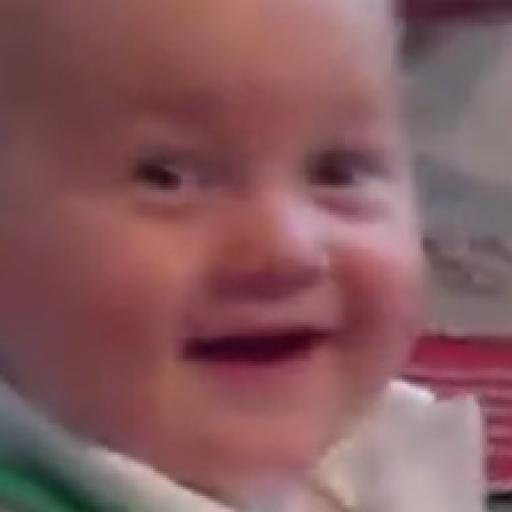Autism: (8, 6, 453, 476)
